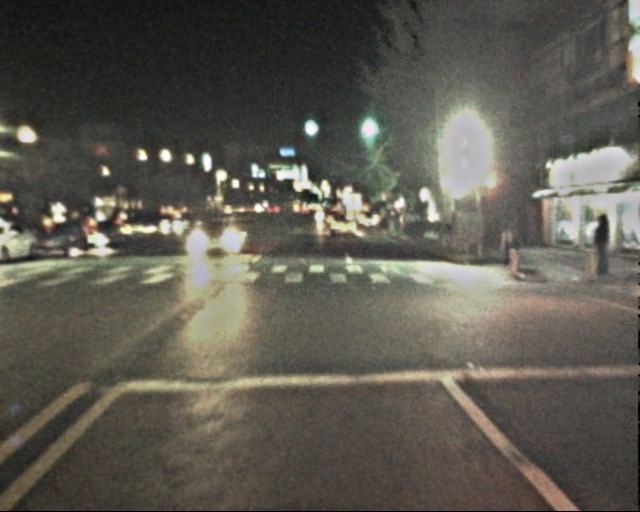person: (588, 213, 619, 281), (497, 217, 522, 276)
